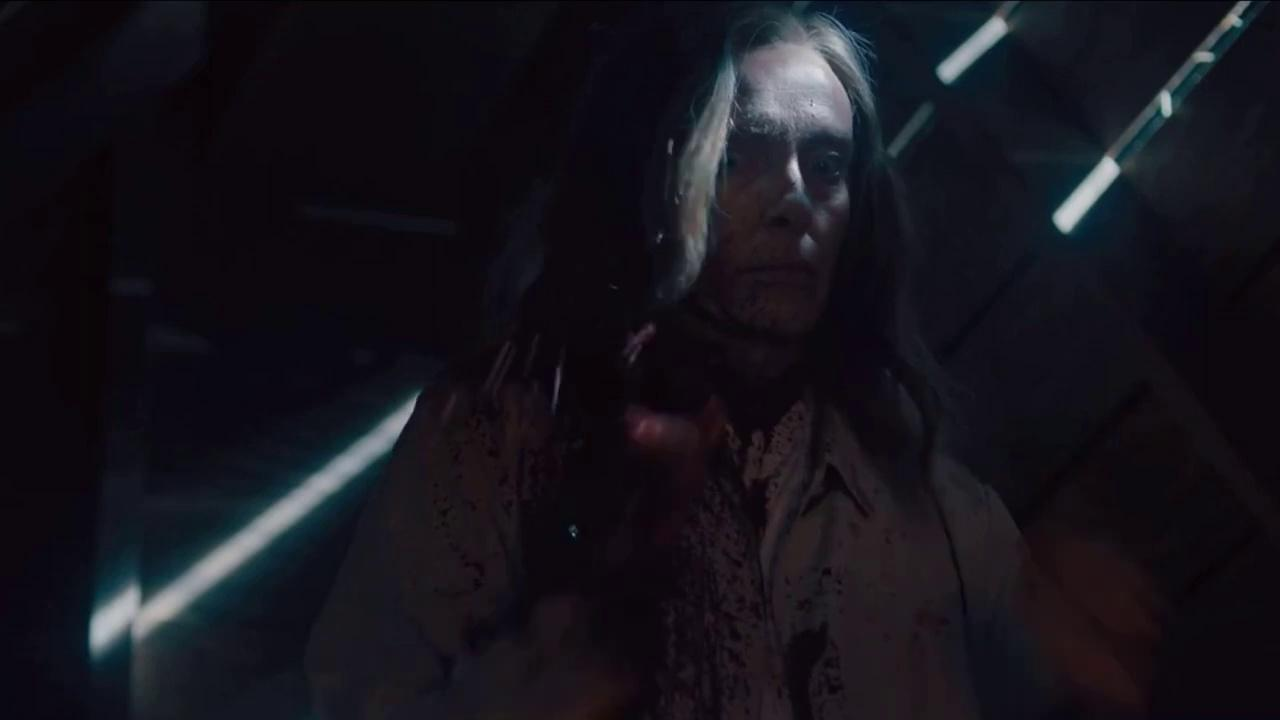Fire: (543, 395, 807, 720), (427, 406, 514, 661), (787, 570, 844, 720)
